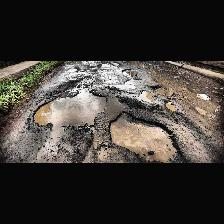pothole: (108, 111, 190, 163), (32, 88, 108, 128), (138, 90, 158, 104), (153, 86, 171, 96), (121, 68, 136, 80), (94, 62, 116, 68), (166, 102, 178, 112), (66, 66, 78, 72)
